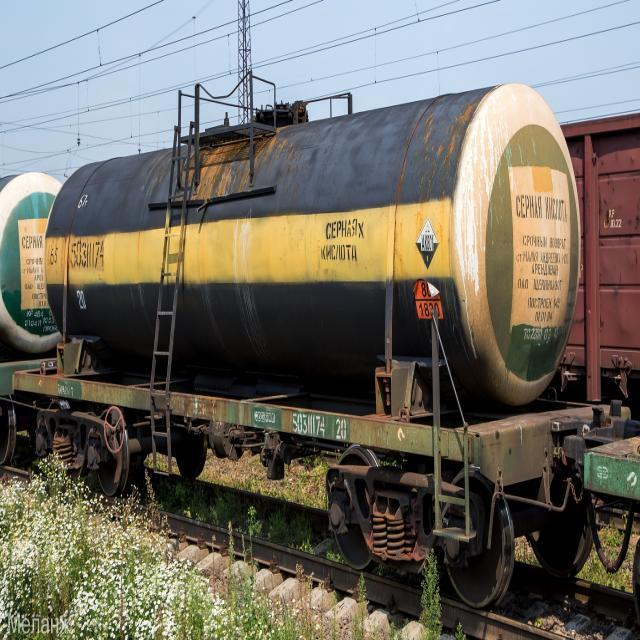wagon: (70, 236, 108, 272)
